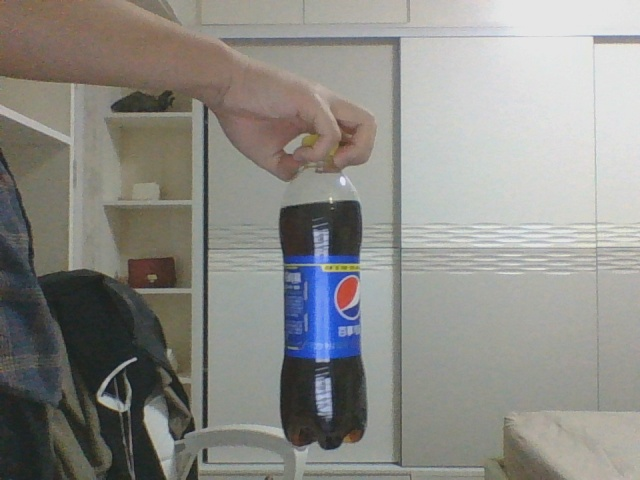Cola: (277, 133, 368, 447)
